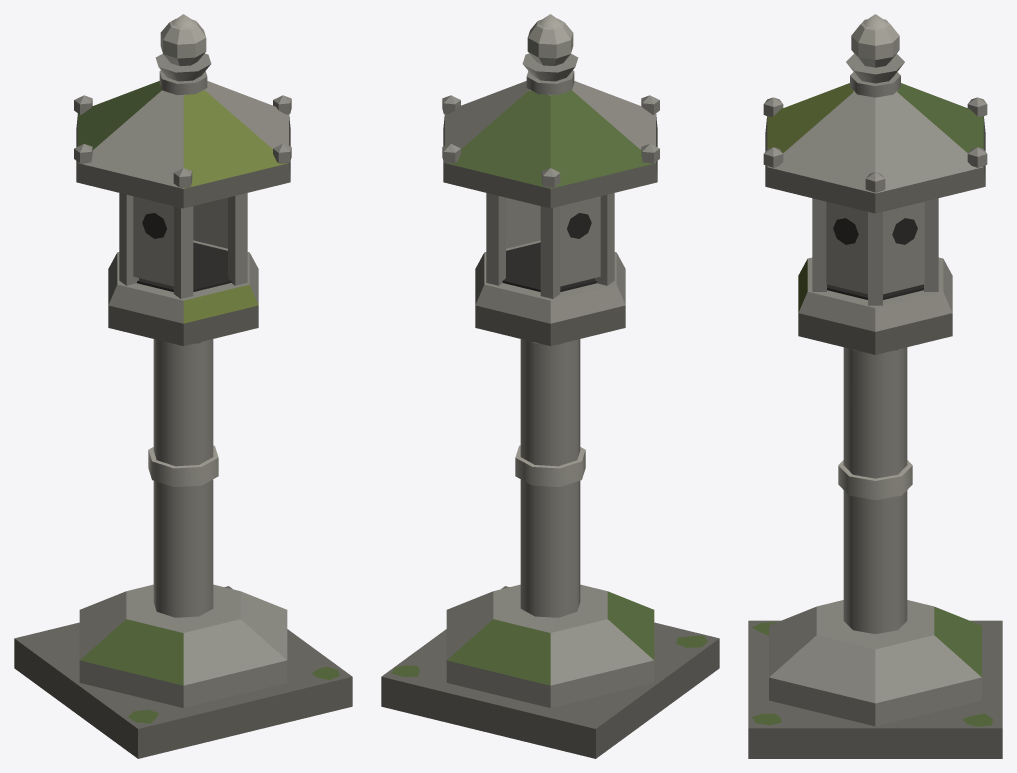
Rendered from stone_lantern.glb.
3 views of the same model, side by side, from view 1: azimuth 30°, elevation 25°; view 2: azimuth 150°, elevation 25°; view 3: azimuth 270°, elevation 25° (orthographic). The views are drawn at different scales.
Parts seen in each view (by area): view 1: lantern; view 2: lantern; view 3: lantern.
Boxes of the visible parts, bbox=[...] form: lantern: bbox=[14, 14, 352, 758]; lantern: bbox=[381, 14, 719, 758]; lantern: bbox=[748, 14, 1002, 758].
Bounding box in the file's own units: 0.6022 × 1.8 × 0.6.
